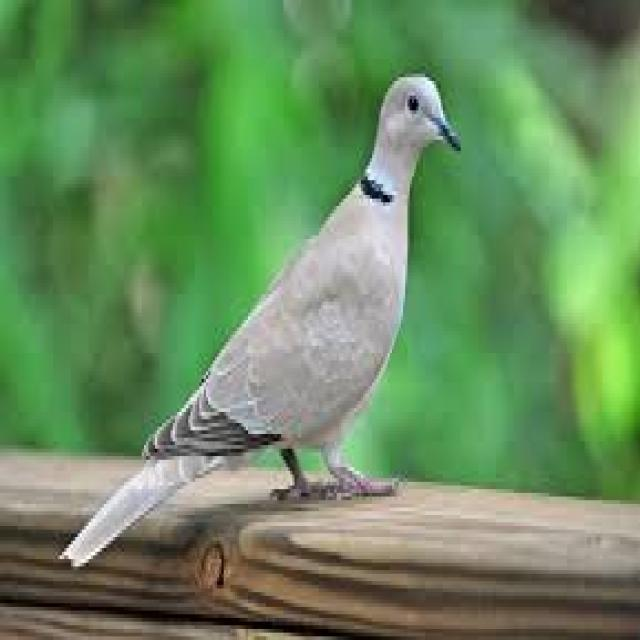pigeon: (49, 56, 467, 611)
